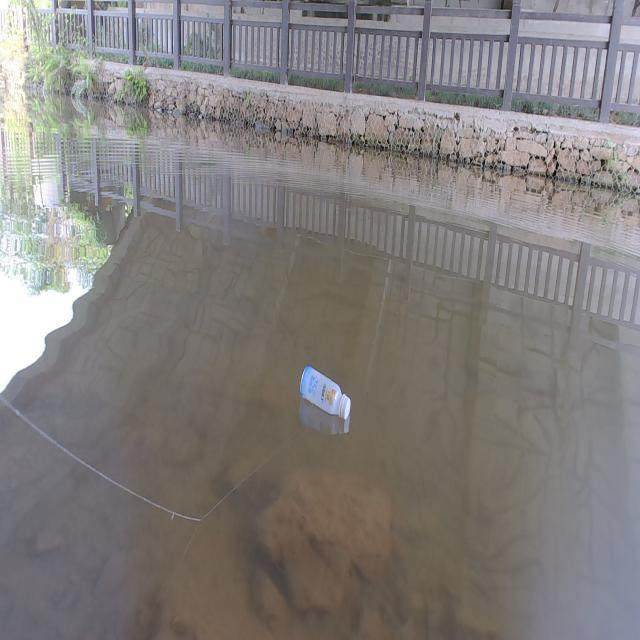bottle: (286, 343, 369, 444)
